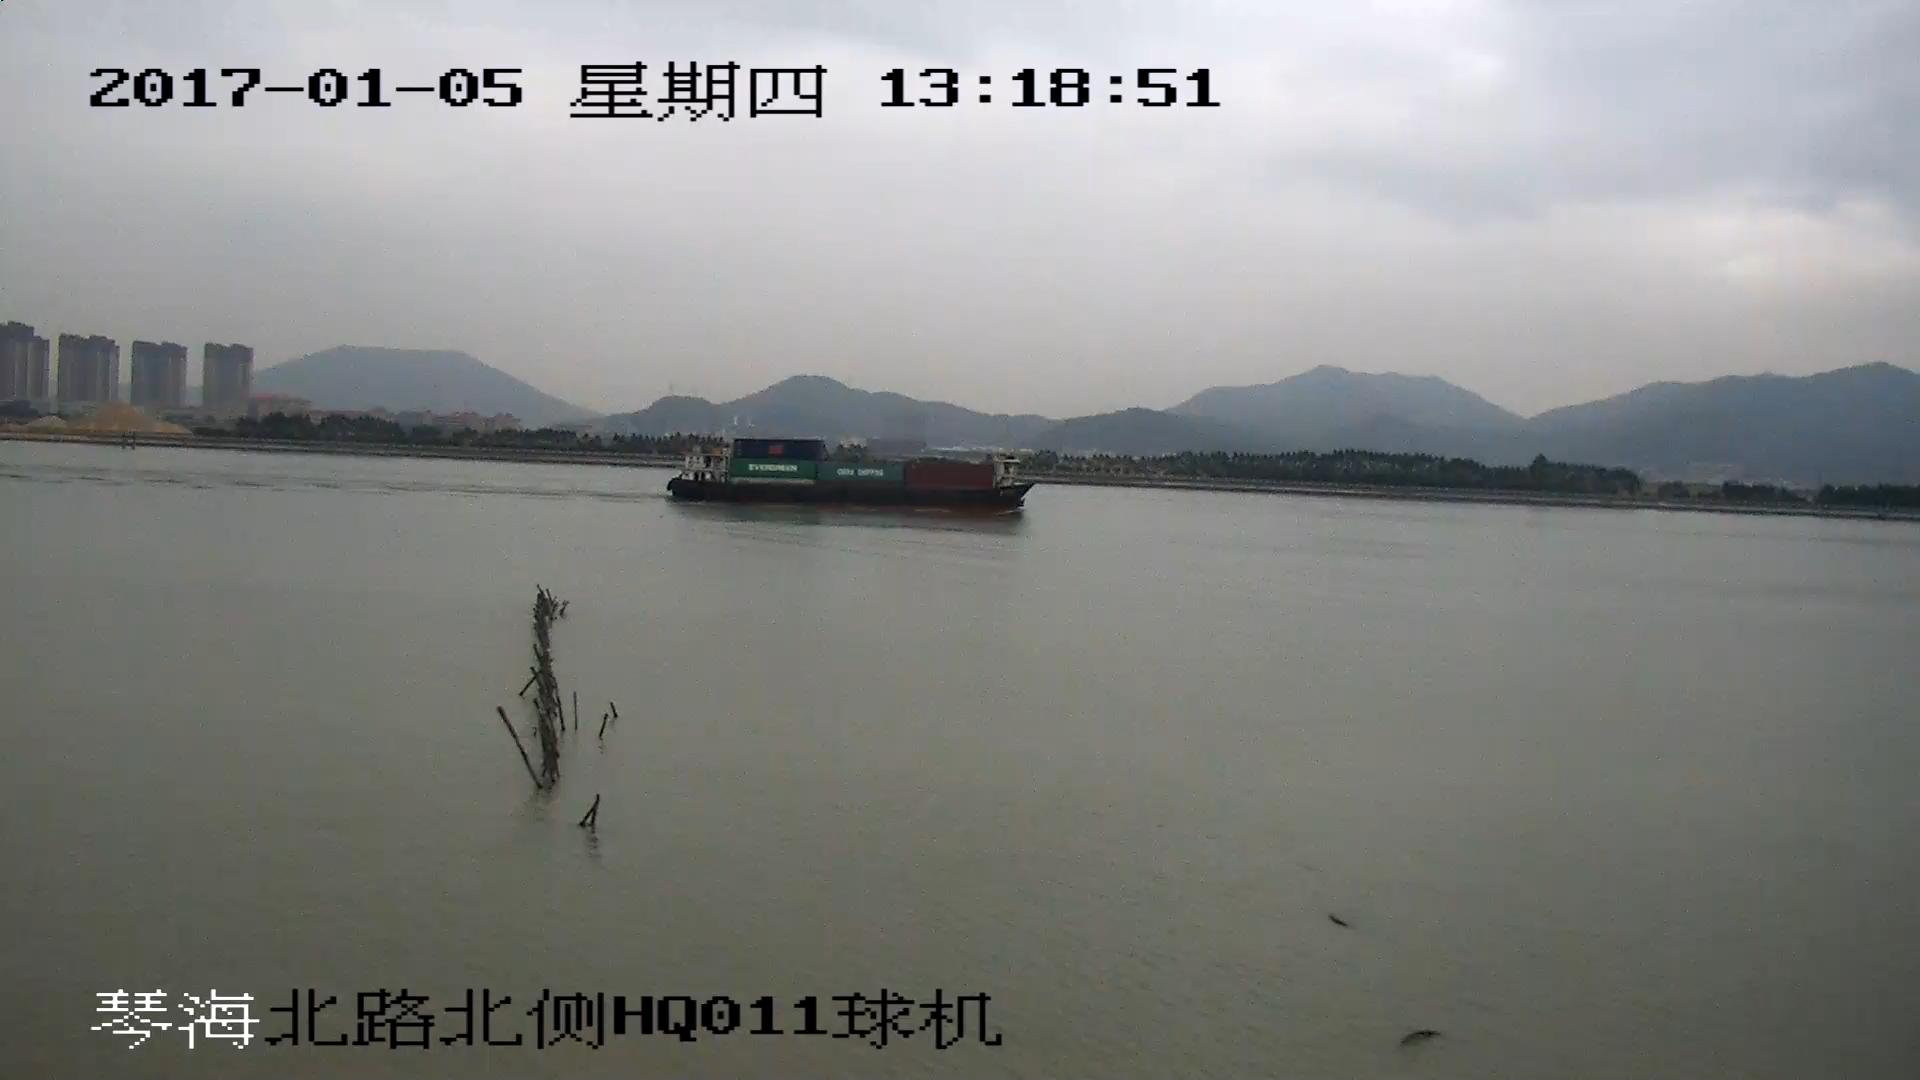container ship: (667, 439, 1035, 508)
